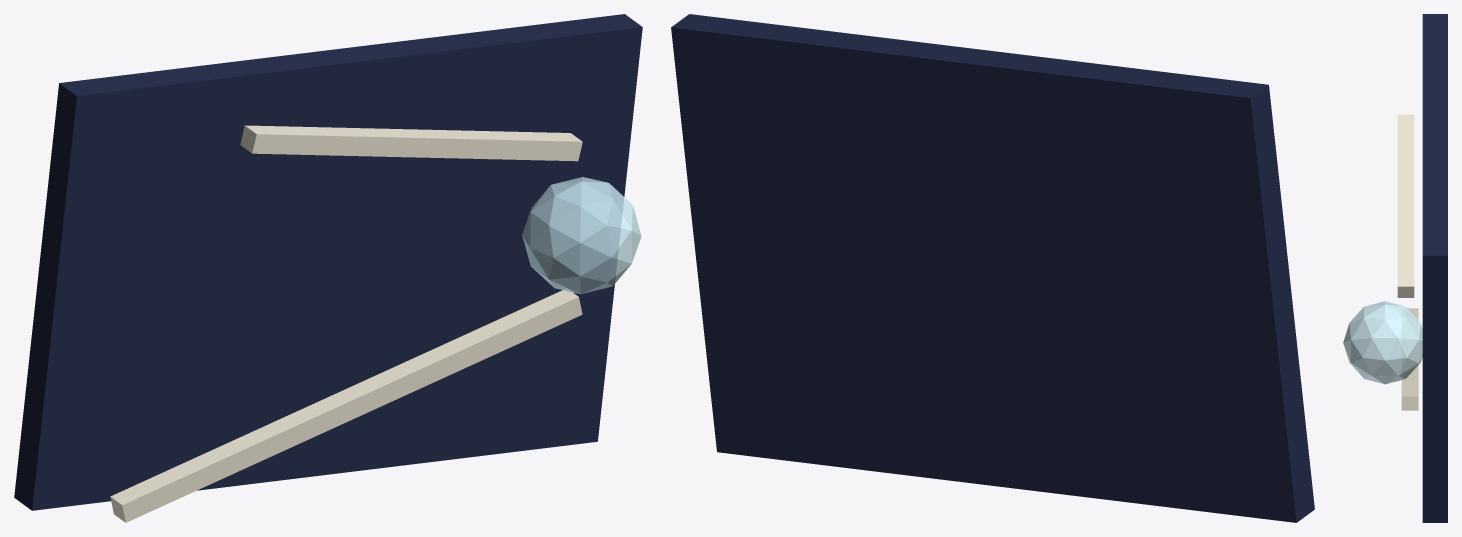
The model's file is 02_world_prop_polish.glb.
3 views of the same model, side by side, from view 1: azimuth 30°, elevation 25°; view 2: azimuth 150°, elevation 25°; view 3: azimuth 270°, elevation 25° (orthographic). The views are drawn at different scales.
Visible parts, largest first — view 1: object_overlay_plate, edge_wear_a, glow_socket, edge_wear_b; view 2: object_overlay_plate; view 3: object_overlay_plate, glow_socket, edge_wear_b, edge_wear_a.
Boxes of the visible parts, x1=… form: object_overlay_plate: x1=14, y1=14, x2=642, y2=510; edge_wear_a: x1=110, y1=289, x2=582, y2=522; glow_socket: x1=522, y1=177, x2=641, y2=294; edge_wear_b: x1=240, y1=125, x2=582, y2=161; object_overlay_plate: x1=671, y1=14, x2=1314, y2=522; object_overlay_plate: x1=1422, y1=14, x2=1447, y2=522; glow_socket: x1=1343, y1=301, x2=1422, y2=384; edge_wear_b: x1=1397, y1=114, x2=1414, y2=297; edge_wear_a: x1=1401, y1=308, x2=1418, y2=410.
Size of the model in its own units: 1.18 by 0.8722 by 0.25.
